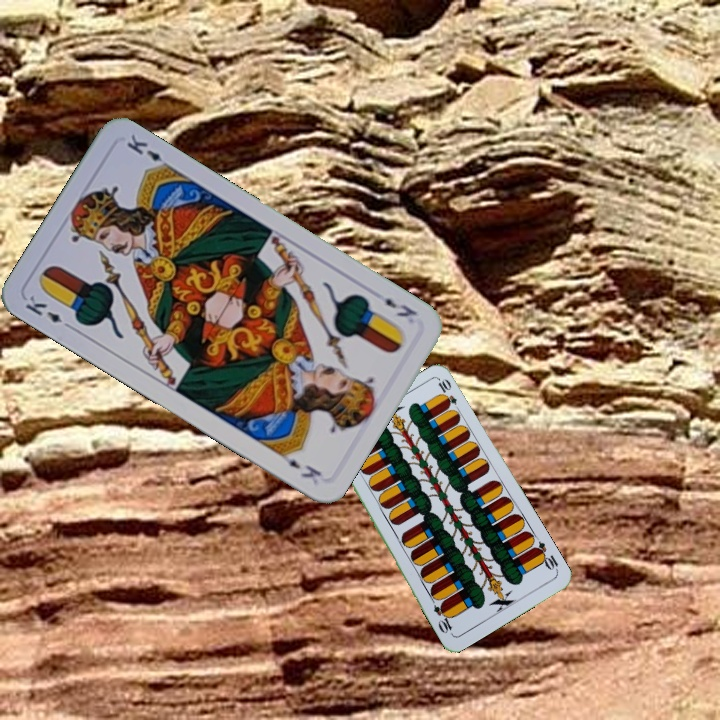E10: (529, 537, 561, 574)
EK: (21, 291, 76, 333), (380, 294, 420, 320)
